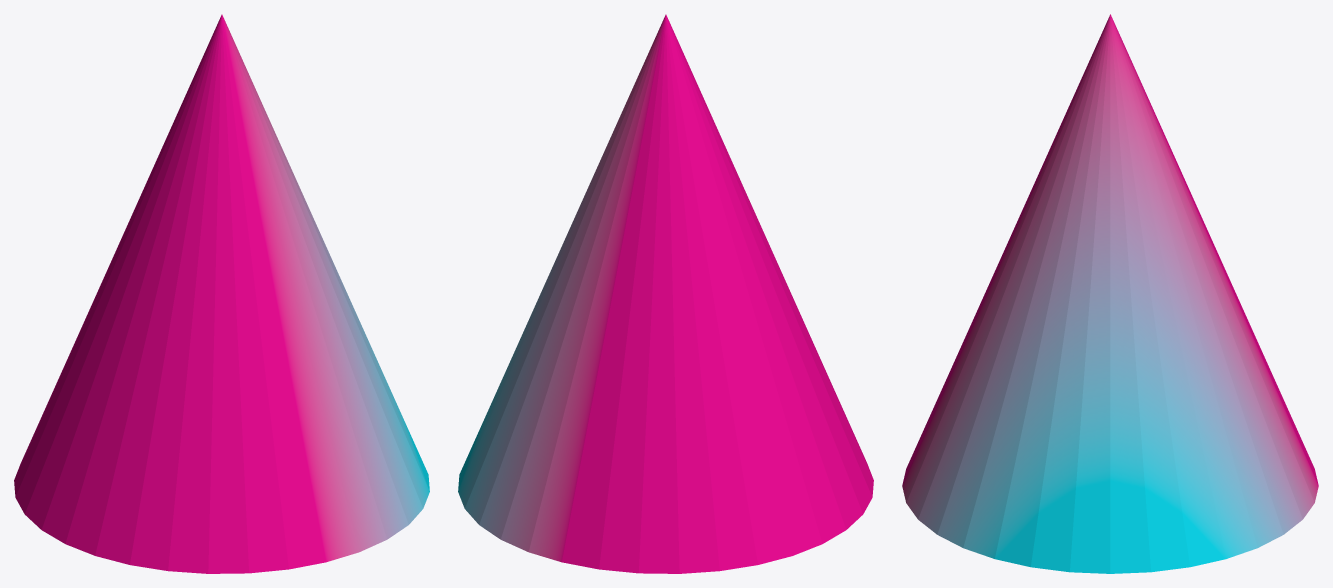
3 renders of one model, left to right at view 1: azimuth 30°, elevation 25°; view 2: azimuth 150°, elevation 25°; view 3: azimuth 270°, elevation 25°, orthographic.
Visible parts, largest first — view 1: VibrantCone; view 2: VibrantCone; view 3: VibrantCone.
Boxes of the visible parts, <box> form: VibrantCone: <box>14,14,429,573</box>; VibrantCone: <box>458,14,873,573</box>; VibrantCone: <box>902,14,1318,573</box>.
Size of the model in its own units: 2.4 by 3 by 2.4.
Materials: 1 (1 with a texture image).
